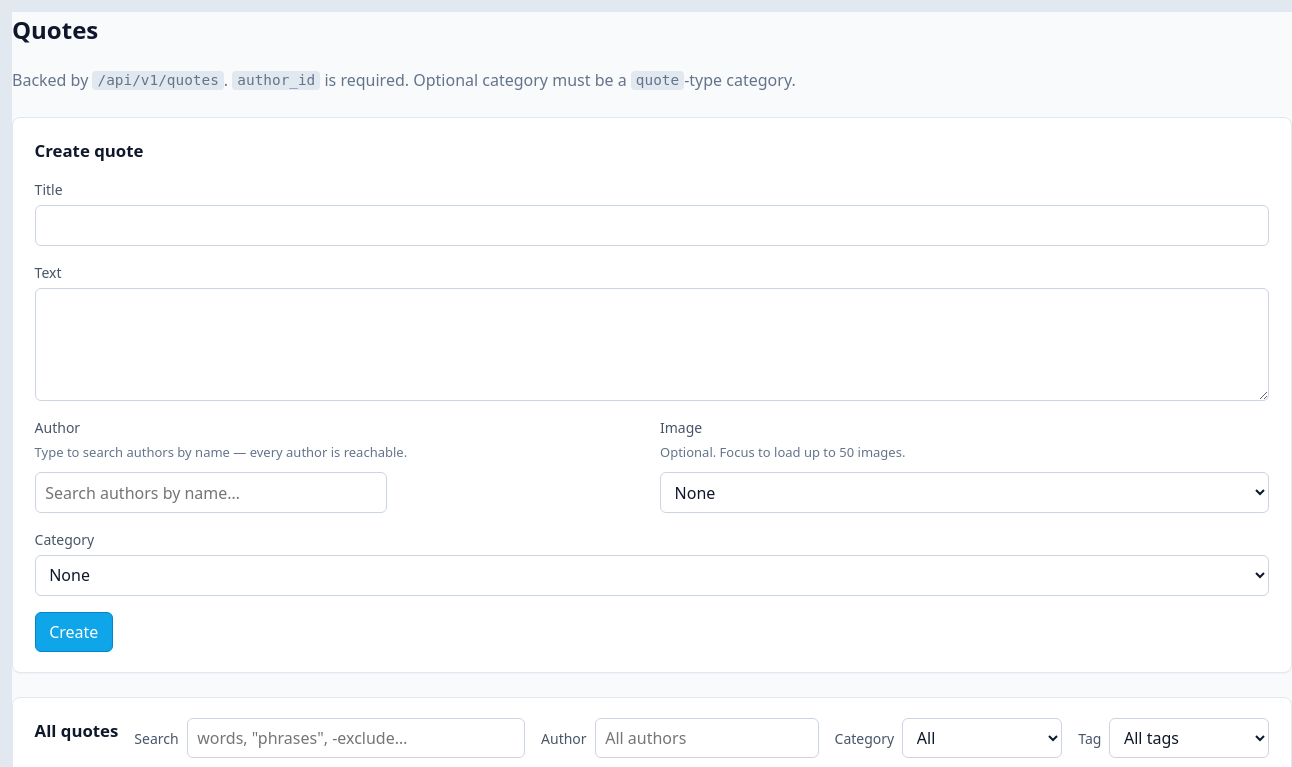
QuotesPage › create form › blocks submit when author is not selected
Type "A title" into the field.
click(652, 226); type("A title")  # box [35,205,1269,246]
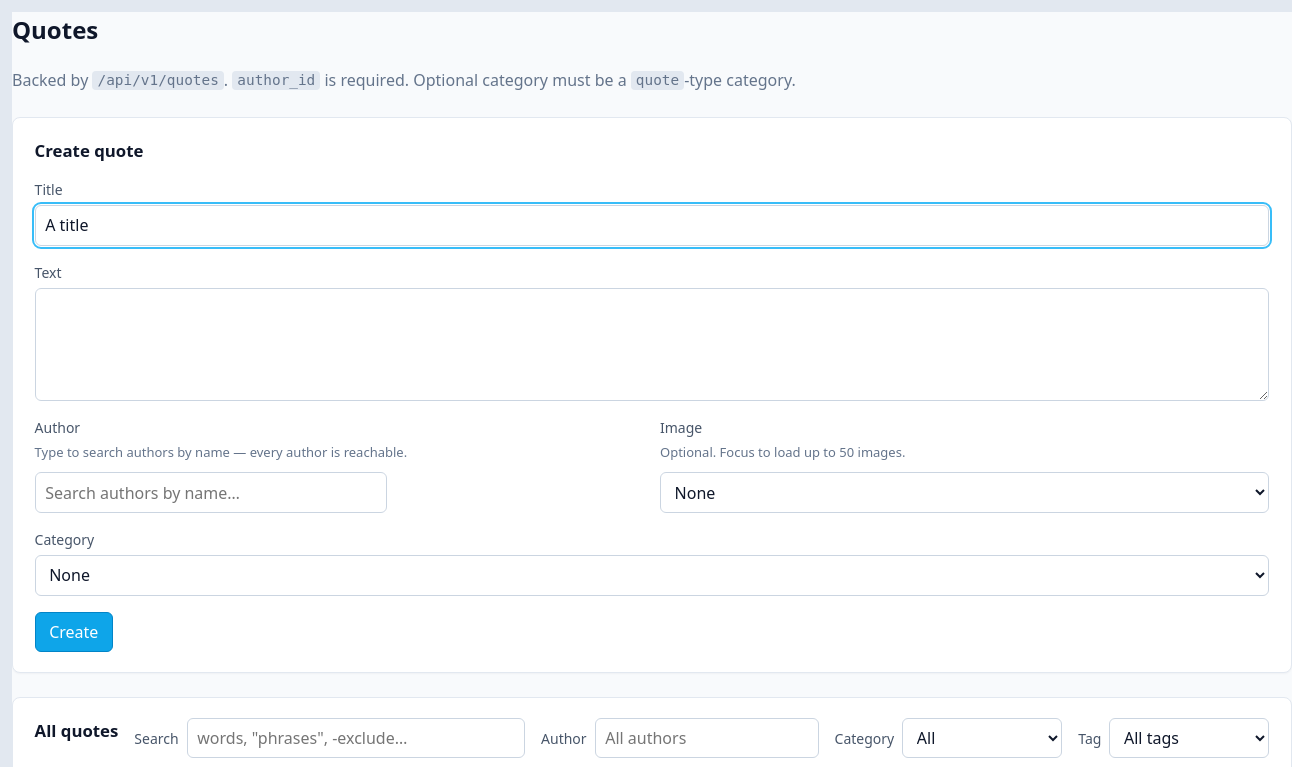
Type "Some text" into the text box.
click(652, 344); type("Some text")  # box [35,288,1269,401]
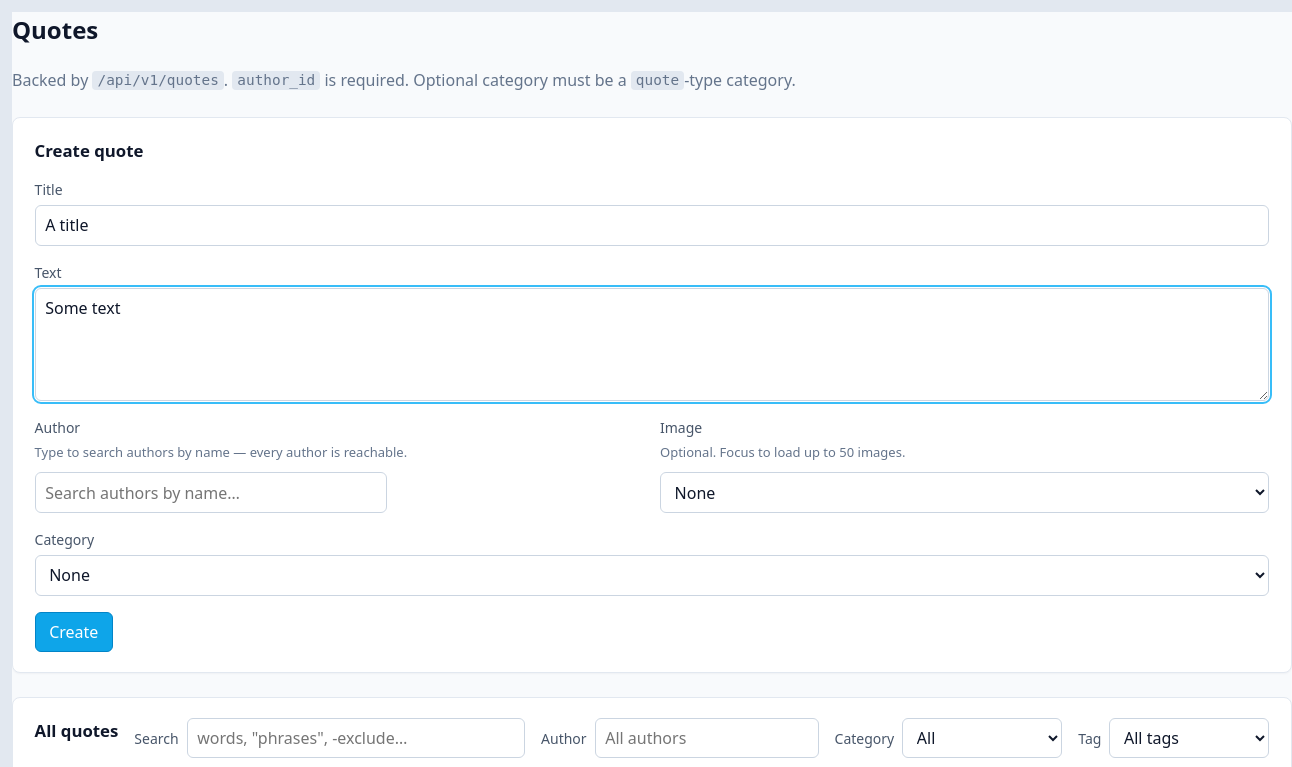
Click the button "Create".
click(74, 632)  # box [35,612,113,652]
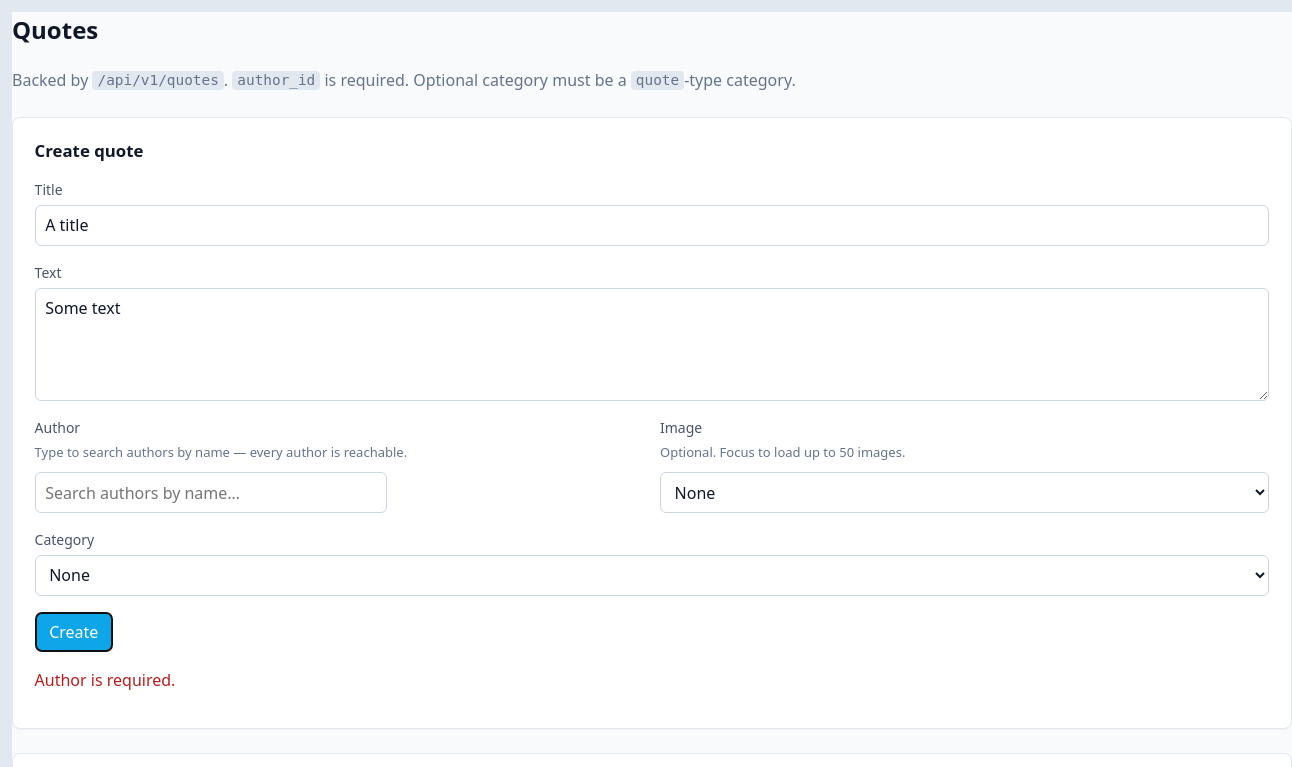
Check: the text "Author is required." is shown, box [35,669,175,691]
